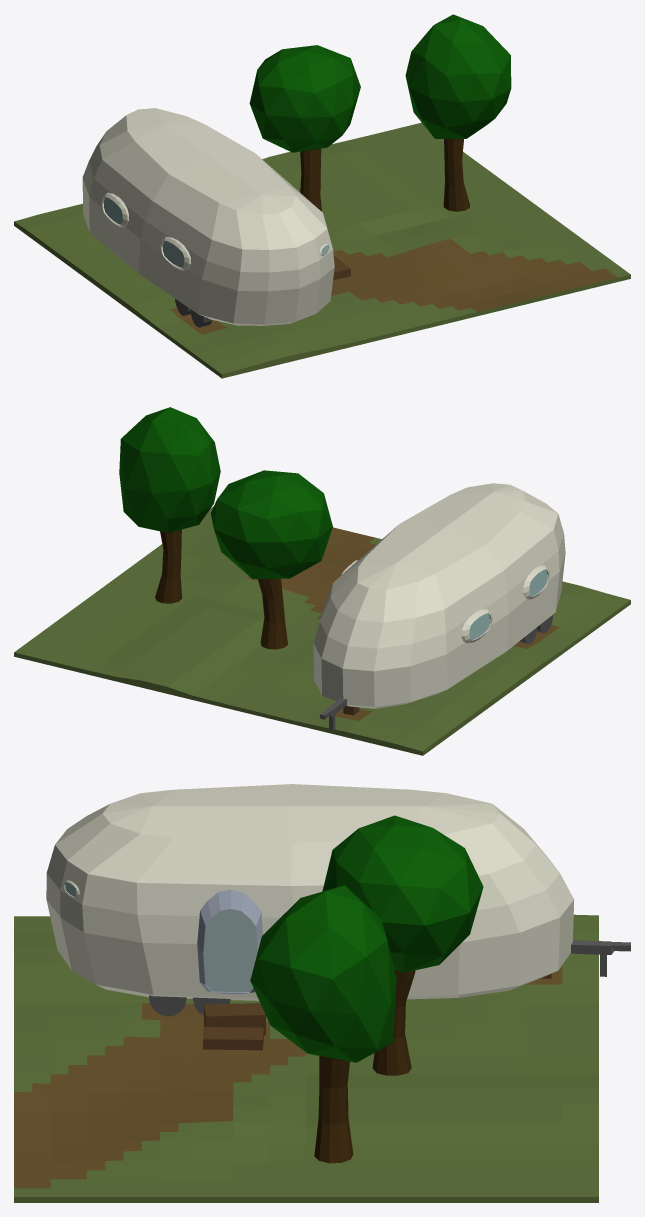
The model's file is Wohnhaus_Tier1.fbx.
3 views of the same model, one above another, from view 1: azimuth 30°, elevation 25°; view 2: azimuth 150°, elevation 25°; view 3: azimuth 270°, elevation 25° (orthographic). The views are drawn at different scales.
Parts seen in each view (by area): view 1: Cube; view 2: Cube; view 3: Cube.
Part boxes in pixels (box(x1,y1,x2,y2)): Cube: box(14, 14, 630, 378); Cube: box(14, 407, 630, 755); Cube: box(14, 784, 630, 1202).
Size of the model in its own units: 358 by 161 by 333.
